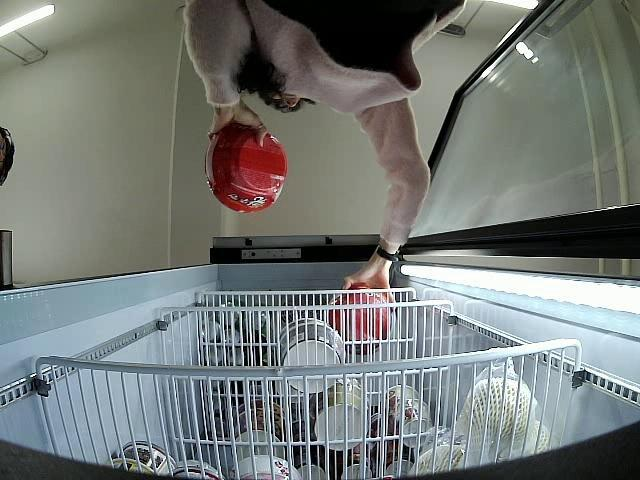10_wangTtukkeong: (205, 124, 288, 213), (328, 284, 395, 348)
